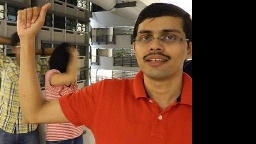Pugno: (7, 1, 56, 34)
